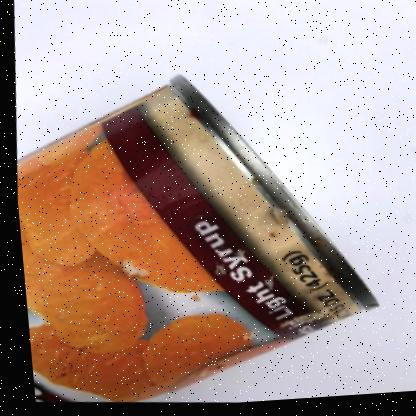Metal: (14, 79, 372, 404)
